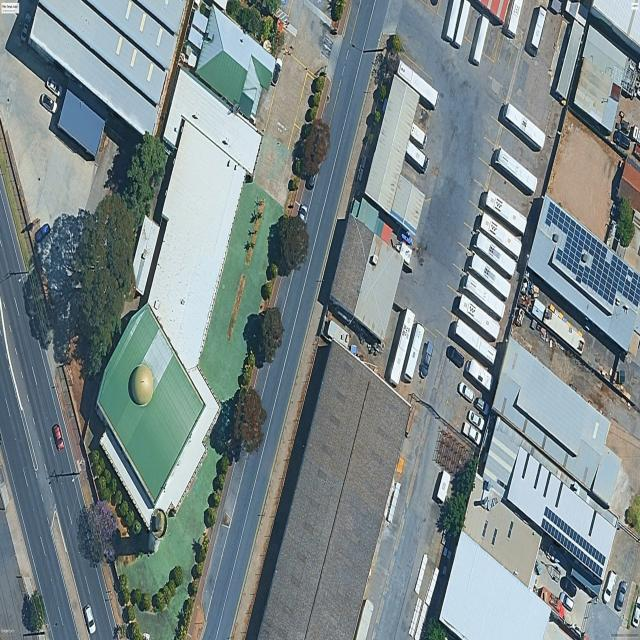Home: (329, 216, 404, 342), (196, 7, 276, 122), (617, 157, 640, 212)
mosque: (97, 69, 262, 527)
